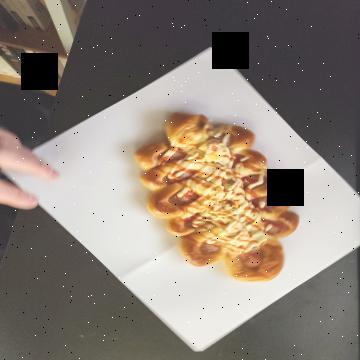pizza_bread: (101, 64, 272, 225)
